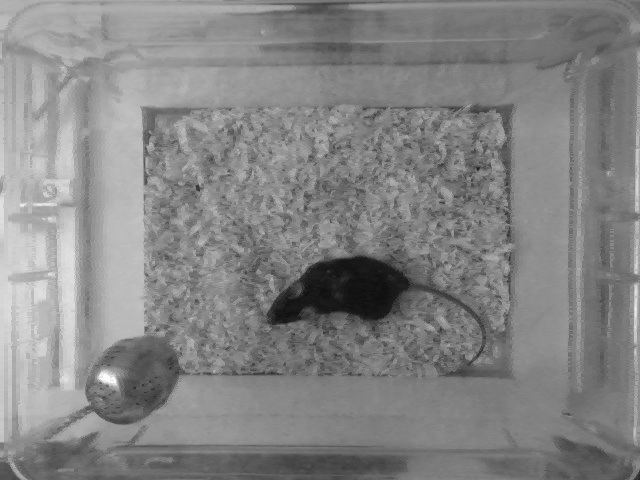mice: (268, 254, 493, 364)
